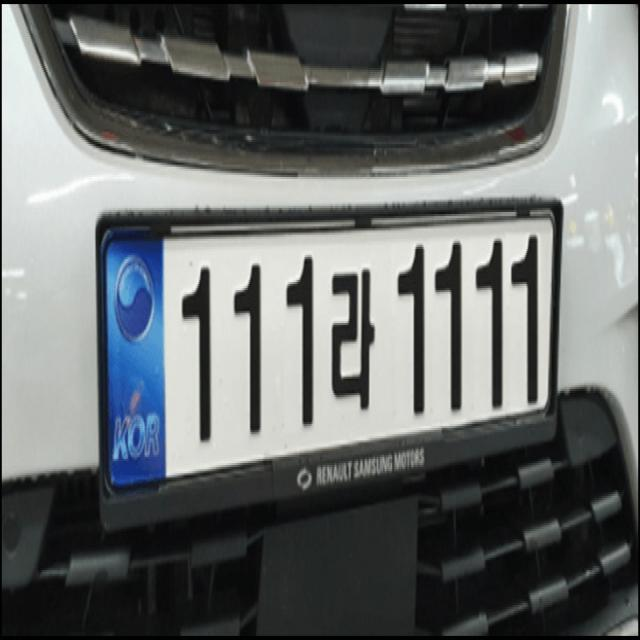illegal_plate: (93, 184, 561, 522)
